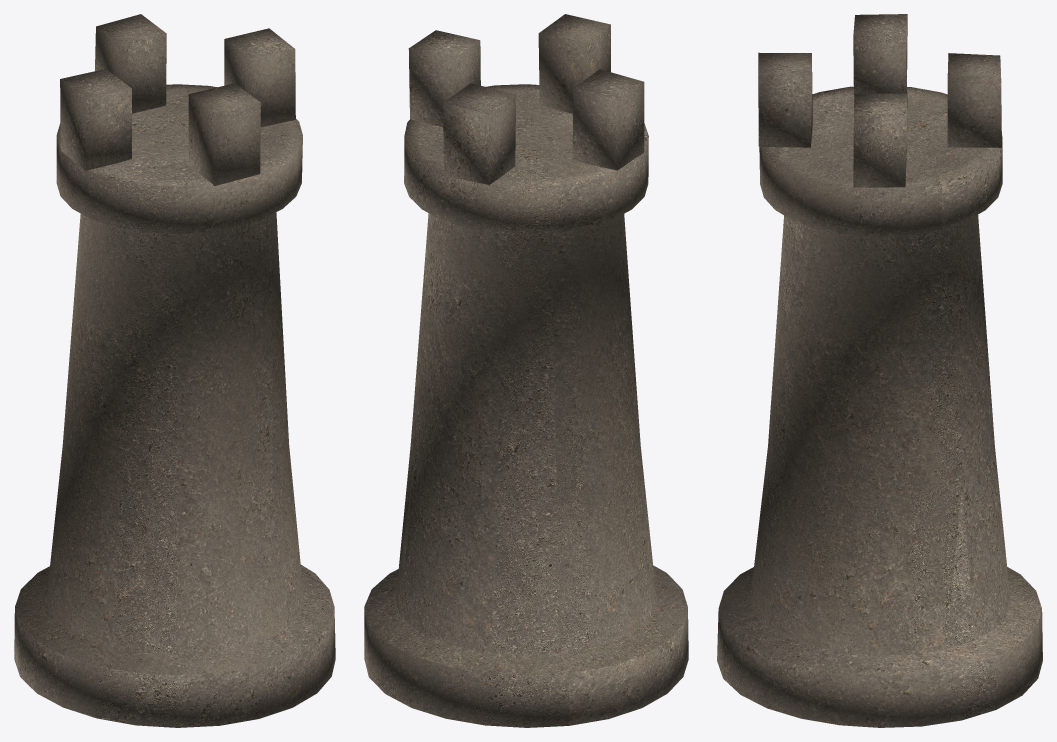
The model's file is stone_chess_piece.glb.
3 renders of one model, left to right at view 1: azimuth 30°, elevation 25°; view 2: azimuth 150°, elevation 25°; view 3: azimuth 270°, elevation 25°, orthographic.
Parts seen in each view (by area): view 1: stone_chess_piece; view 2: stone_chess_piece; view 3: stone_chess_piece.
Boxes of the visible parts, bbox=[...] form: stone_chess_piece: bbox=[14, 14, 335, 727]; stone_chess_piece: bbox=[364, 14, 688, 727]; stone_chess_piece: bbox=[717, 14, 1042, 727].
Bounding box in the file's own units: 1.22 × 2.5 × 1.24.
Materials: 1 (1 with a texture image).
